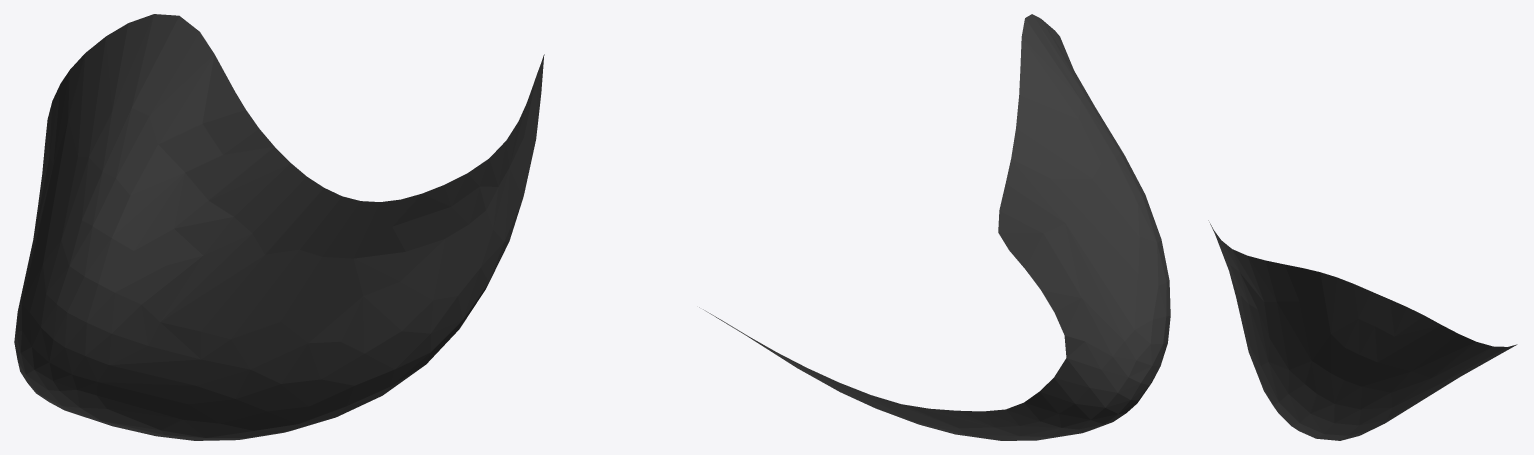
Rendered from Ulna_process_anconeal.glb.
3 renders of one model, left to right at view 1: azimuth 30°, elevation 25°; view 2: azimuth 150°, elevation 25°; view 3: azimuth 270°, elevation 25°, orthographic. The views are drawn at different scales.
Parts seen in each view (by area): view 1: Ulna_process_anconeal; view 2: Ulna_process_anconeal; view 3: Ulna_process_anconeal.
Part boxes in pixels (x1,y1,x2,y2): Ulna_process_anconeal: [14, 14, 544, 440]; Ulna_process_anconeal: [699, 14, 1170, 440]; Ulna_process_anconeal: [1208, 220, 1517, 440].
Bounding box in the file's own units: 0.152 × 0.1166 × 0.0928.
Materials: 1 (1 with a texture image).
